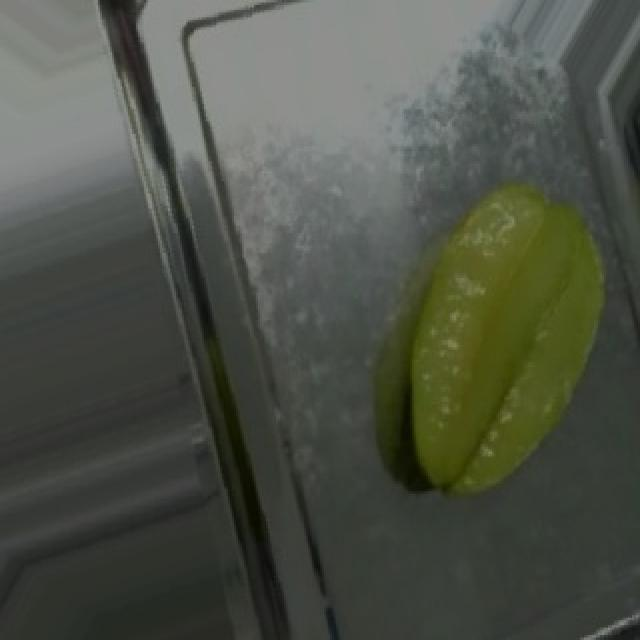fruit: (354, 146, 640, 526)
